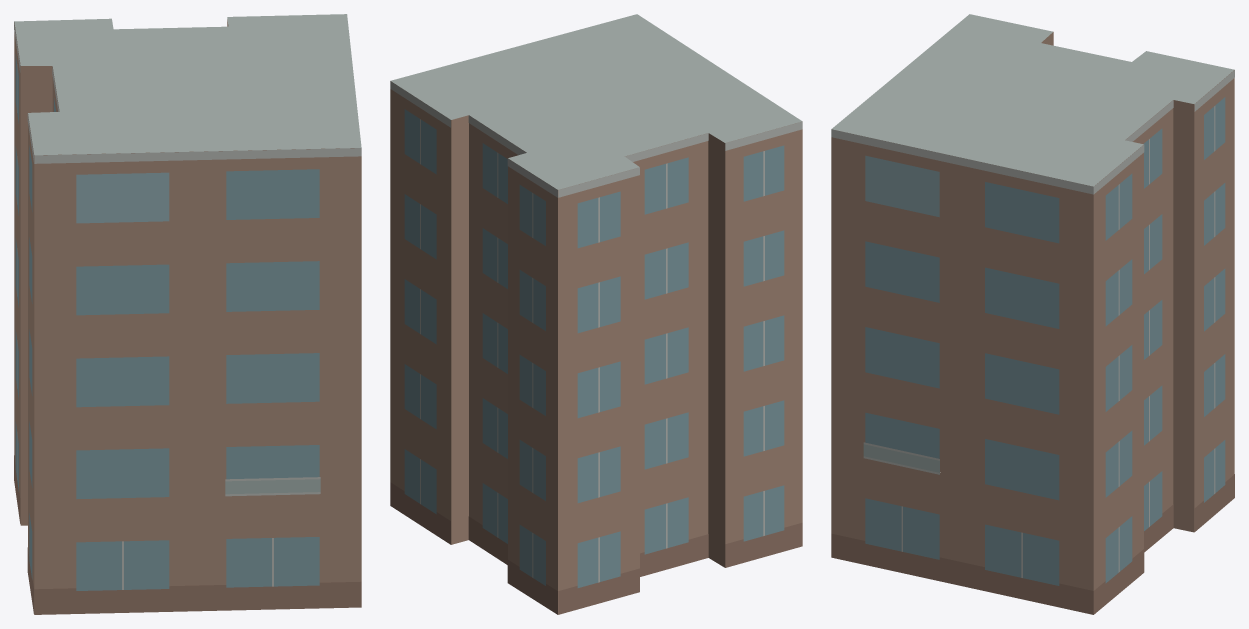
File: survey-upis-32946624.glb
3 views of the same model, side by side, from view 1: azimuth 30°, elevation 25°; view 2: azimuth 150°, elevation 25°; view 3: azimuth 270°, elevation 25° (orthographic). The views are drawn at different scales.
Parts seen in each view (by area): view 1: survey-upis-32946624.tmp; view 2: survey-upis-32946624.tmp; view 3: survey-upis-32946624.tmp.
Part boxes in pixels (box(x1,y1,x2,y2)): survey-upis-32946624.tmp: box(14, 14, 361, 614); survey-upis-32946624.tmp: box(390, 14, 802, 614); survey-upis-32946624.tmp: box(831, 14, 1234, 614).
Bounding box in the file's own units: 11.33 × 13.1 × 11.19.
